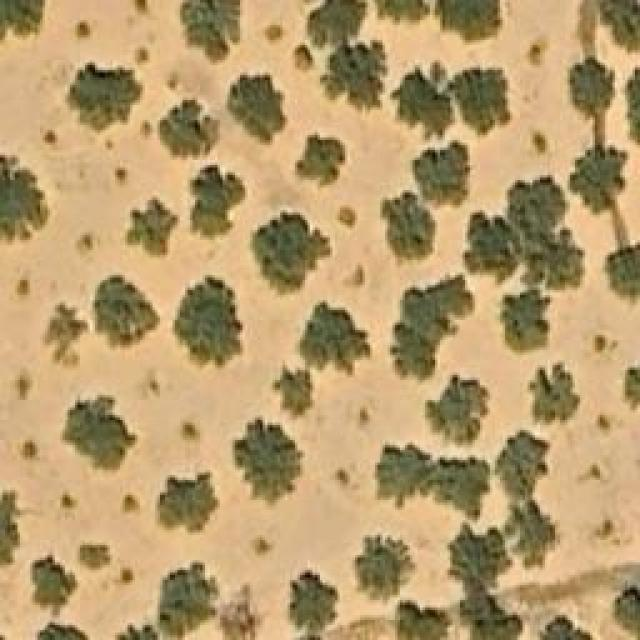Tree: (388, 278, 473, 381), (510, 175, 583, 288), (248, 213, 333, 298), (175, 275, 245, 370), (233, 415, 306, 505), (60, 395, 138, 473), (90, 275, 160, 350), (300, 300, 370, 373), (67, 65, 145, 130), (425, 375, 490, 448), (228, 67, 288, 145), (495, 428, 553, 501), (393, 65, 453, 135), (0, 158, 50, 241), (190, 165, 245, 240), (465, 213, 523, 283), (157, 560, 215, 630), (179, 0, 242, 62), (325, 45, 385, 110), (455, 60, 508, 133), (158, 100, 221, 160), (373, 443, 436, 503), (412, 140, 470, 205), (450, 525, 508, 590), (573, 145, 626, 213), (158, 472, 218, 530), (525, 365, 580, 428), (355, 535, 413, 593), (125, 198, 178, 258), (383, 193, 433, 256), (510, 503, 560, 563), (502, 290, 550, 350), (460, 595, 523, 640), (30, 552, 78, 610), (567, 58, 615, 113), (40, 305, 83, 365), (297, 133, 345, 186), (290, 578, 338, 631), (438, 0, 501, 40), (595, 0, 640, 52), (307, 0, 365, 40), (0, 0, 48, 48), (397, 597, 447, 640), (607, 239, 640, 302), (612, 567, 639, 640), (582, 335, 620, 368), (539, 617, 592, 640), (622, 358, 640, 418), (377, 0, 425, 20), (78, 545, 113, 570), (525, 35, 550, 68), (530, 130, 553, 160), (245, 535, 275, 558), (15, 368, 33, 401), (337, 200, 355, 230), (258, 25, 283, 45), (18, 438, 38, 461), (15, 270, 30, 300), (135, 48, 150, 73), (122, 493, 140, 513), (182, 422, 200, 440), (120, 567, 135, 585)
